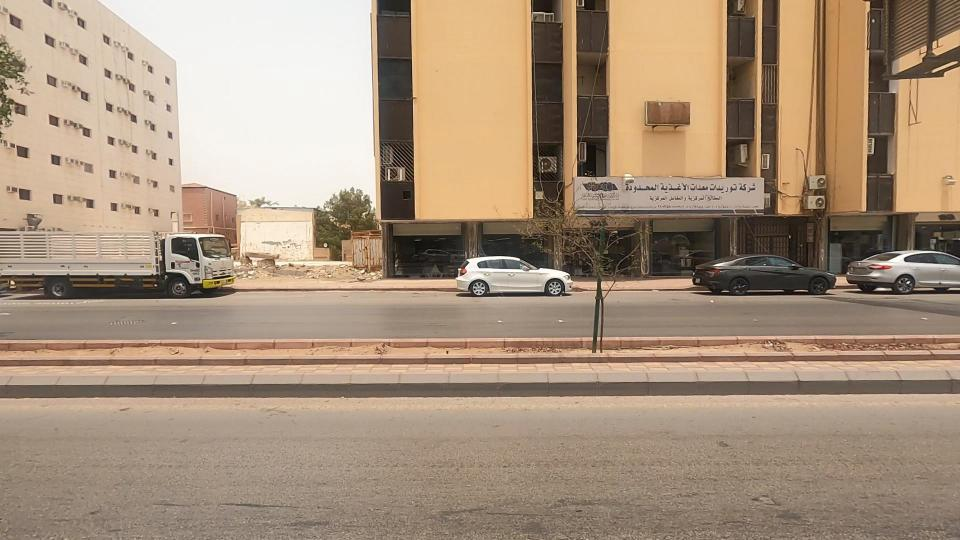CLUTTER_SIDEWALK: (0, 312, 465, 398), (544, 294, 960, 390), (306, 310, 669, 369)
